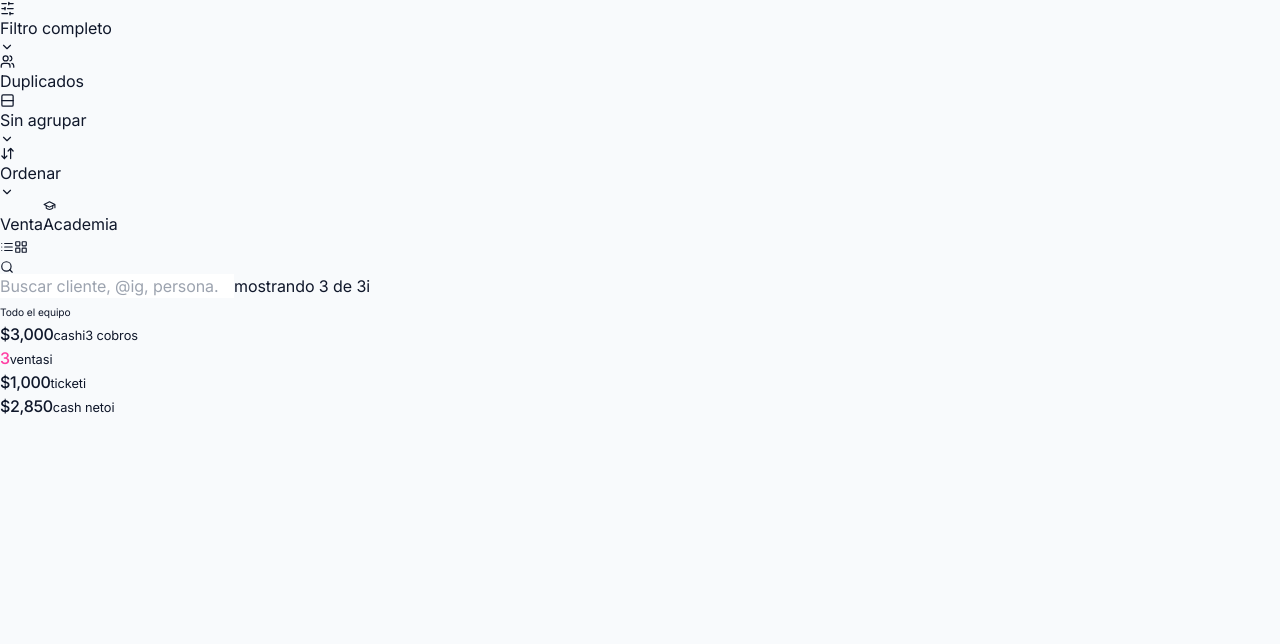
Revisar · operar › una herramienta se abre con las filas que muestra la lista
This screenshot has width=1280, height=644.
Click the button "Duplicados" at (42, 74), box [0,54,84,93]
(page scrolled)
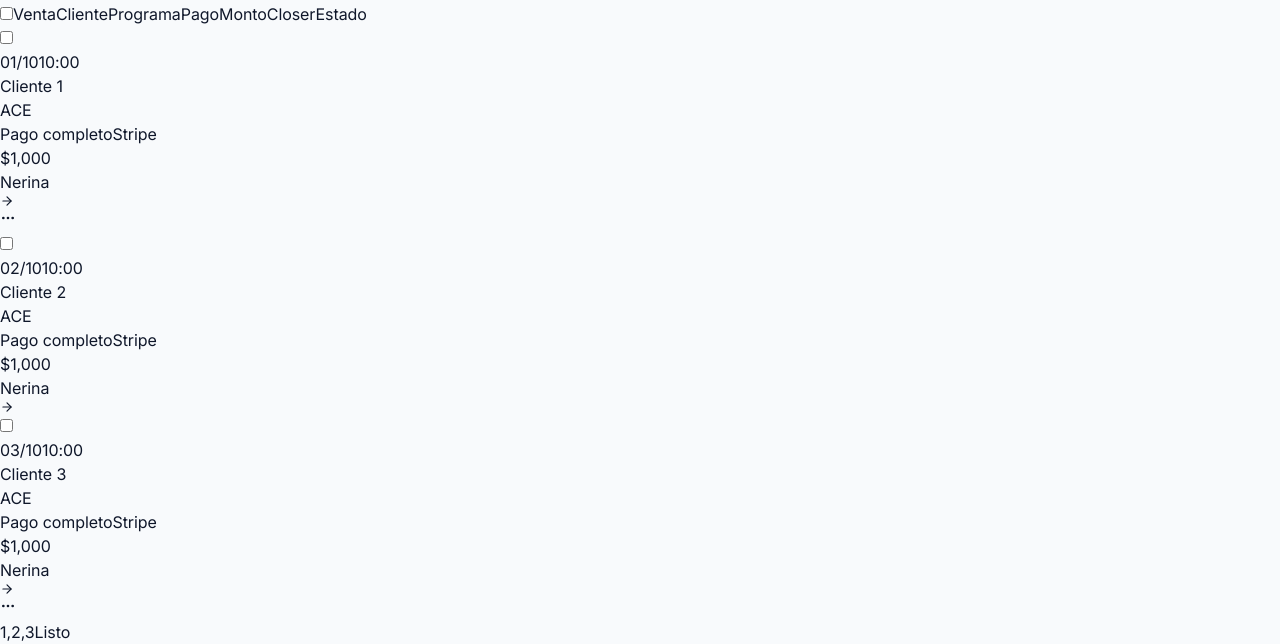
Result: the text with test id "filas" reads "1,2,3" at [0,622,34,642]
